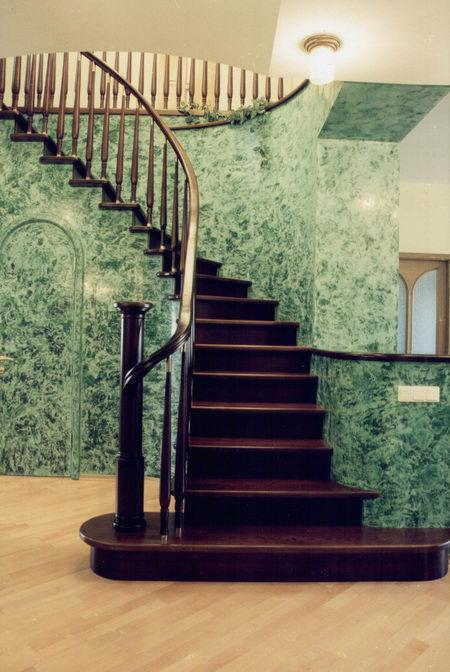Escaleras: (9, 73, 442, 578)
